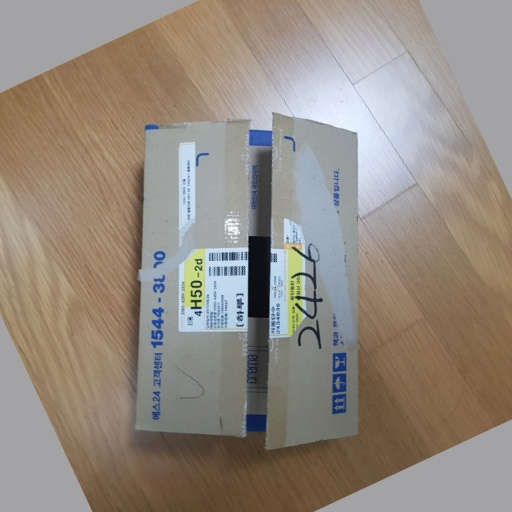Paper_0: (130, 114, 375, 454)
